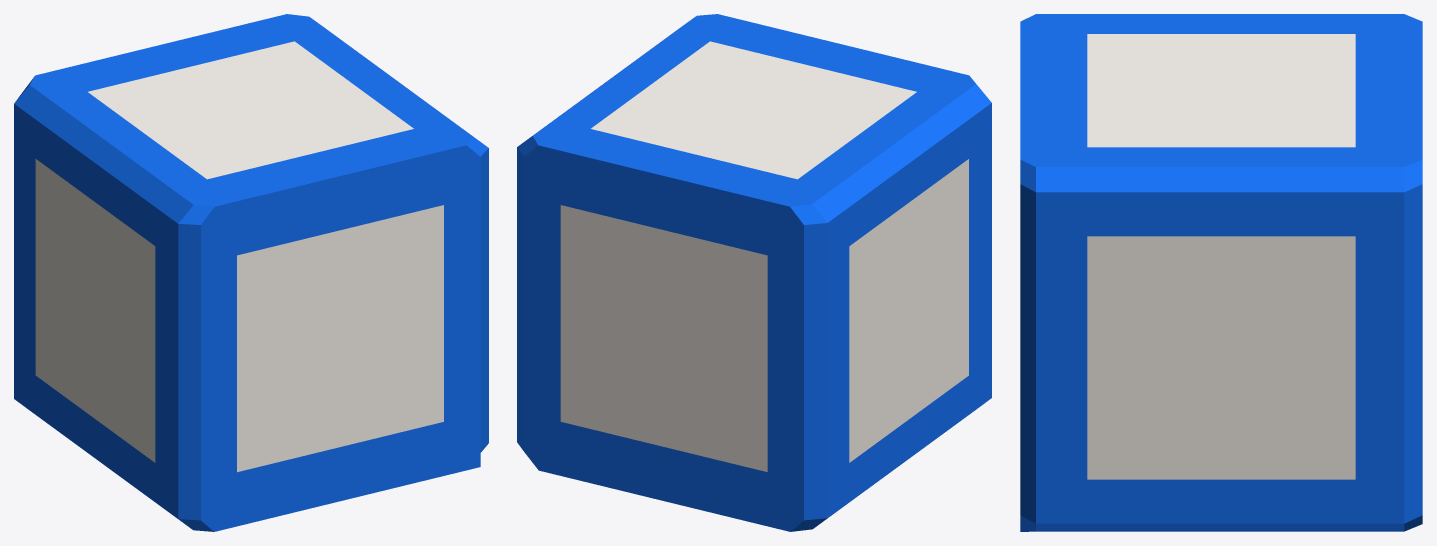
The model's file is Box_Three.fbx.
3 renders of one model, left to right at view 1: azimuth 30°, elevation 25°; view 2: azimuth 150°, elevation 25°; view 3: azimuth 270°, elevation 25°, orthographic. The views are drawn at different scales.
Visible parts, largest first — view 1: Cube_Three; view 2: Cube_Three; view 3: Cube_Three.
Boxes of the visible parts, x1=… form: Cube_Three: x1=14, y1=14, x2=488, y2=531; Cube_Three: x1=517, y1=14, x2=991, y2=531; Cube_Three: x1=1020, y1=14, x2=1422, y2=531.
Size of the model in its own units: 640 by 640 by 640.
